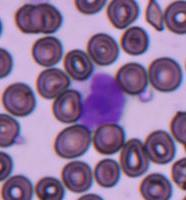M: (79, 72, 126, 130)
